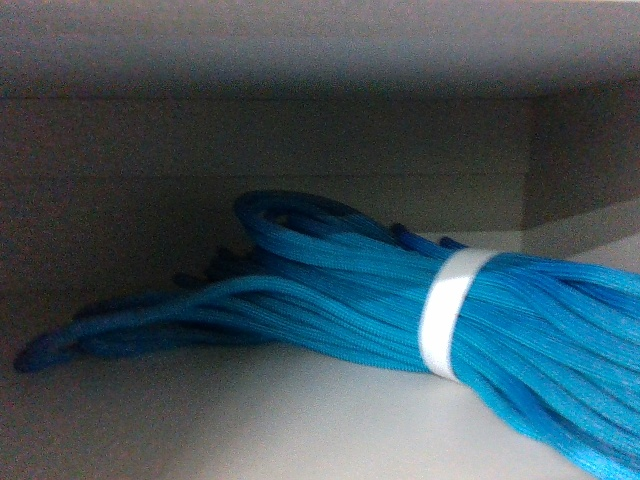rope: (39, 185, 640, 475)
